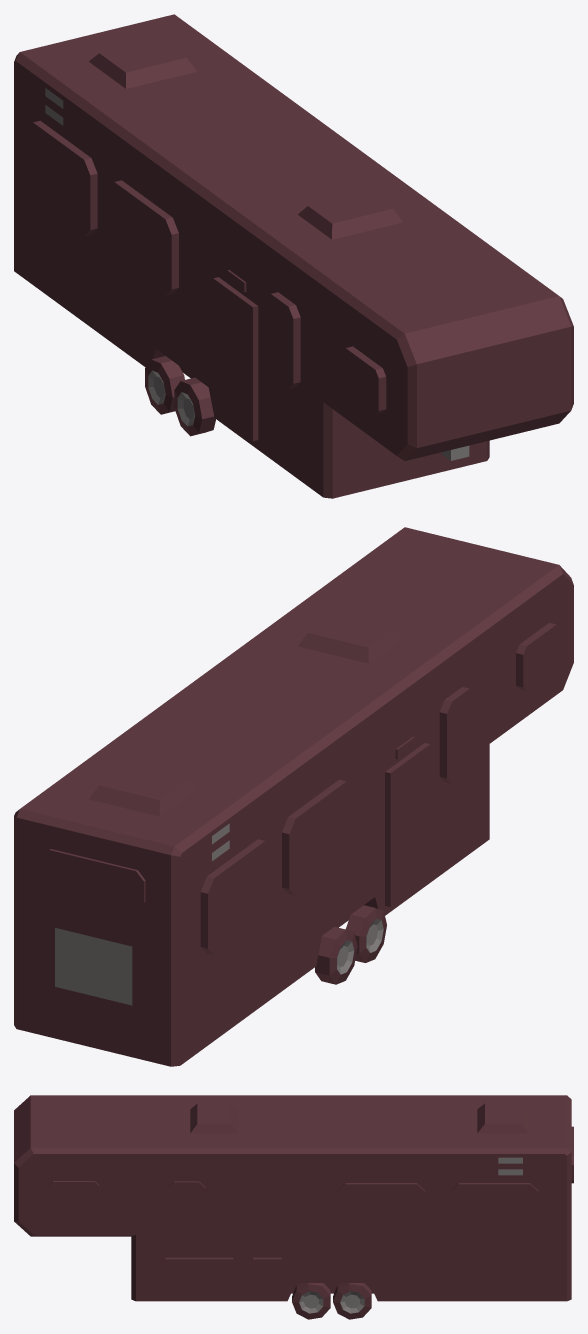
Rendered from car-caravan-big.fbx.
The picture shows the model from 3 angles, top to bottom: view 1: azimuth 30°, elevation 25°; view 2: azimuth 150°, elevation 25°; view 3: azimuth 270°, elevation 25°; orthographic projection. The views are drawn at different scales.
Visible parts, largest first — view 1: car-caravan-big-base, car-caravan-big-wheel_FR, car-caravan-big-wheel_BR; view 2: car-caravan-big-base, car-caravan-big-wheel_BR, car-caravan-big-wheel_FR; view 3: car-caravan-big-base, car-caravan-big-wheel_BL, car-caravan-big-wheel_FL.
Boxes of the visible parts, <box> form: car-caravan-big-base: <box>14,14,573,498</box>; car-caravan-big-wheel_FR: <box>174,377,215,436</box>; car-caravan-big-wheel_BR: <box>145,356,184,414</box>; car-caravan-big-base: <box>14,527,573,1066</box>; car-caravan-big-wheel_BR: <box>315,926,357,984</box>; car-caravan-big-wheel_FR: <box>346,905,386,962</box>; car-caravan-big-base: <box>14,1095,573,1301</box>; car-caravan-big-wheel_BL: <box>333,1283,371,1319</box>; car-caravan-big-wheel_FL: <box>292,1283,330,1319</box>.
Size of the model in its own units: 2.64 by 3.53 by 10.04.
